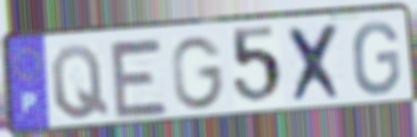5: (228, 24, 285, 112)
E: (106, 36, 172, 120)
G: (169, 34, 227, 112), (351, 19, 403, 98)
Q: (48, 43, 112, 123)
X: (285, 20, 348, 106)
